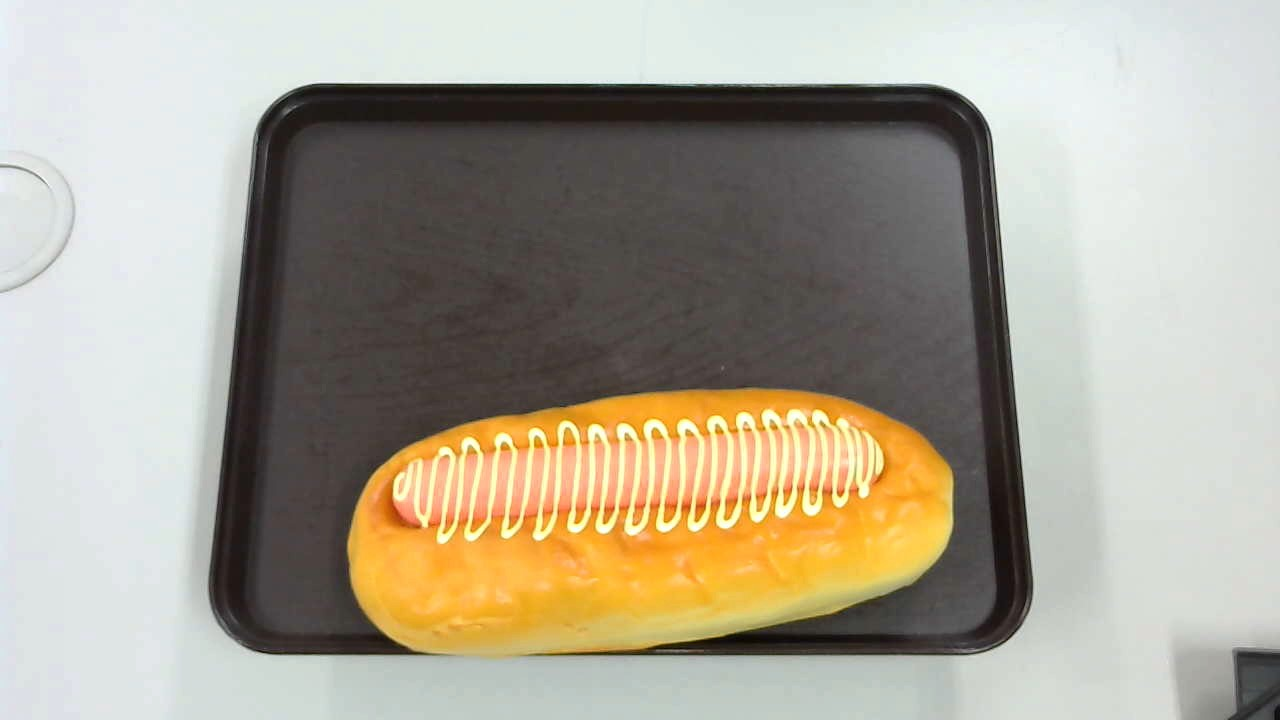hot dog: (345, 387, 954, 658)
